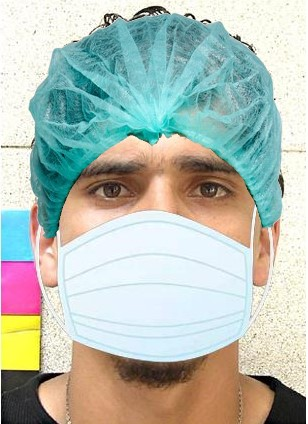with_mask_and_cap: (34, 19, 281, 378)
